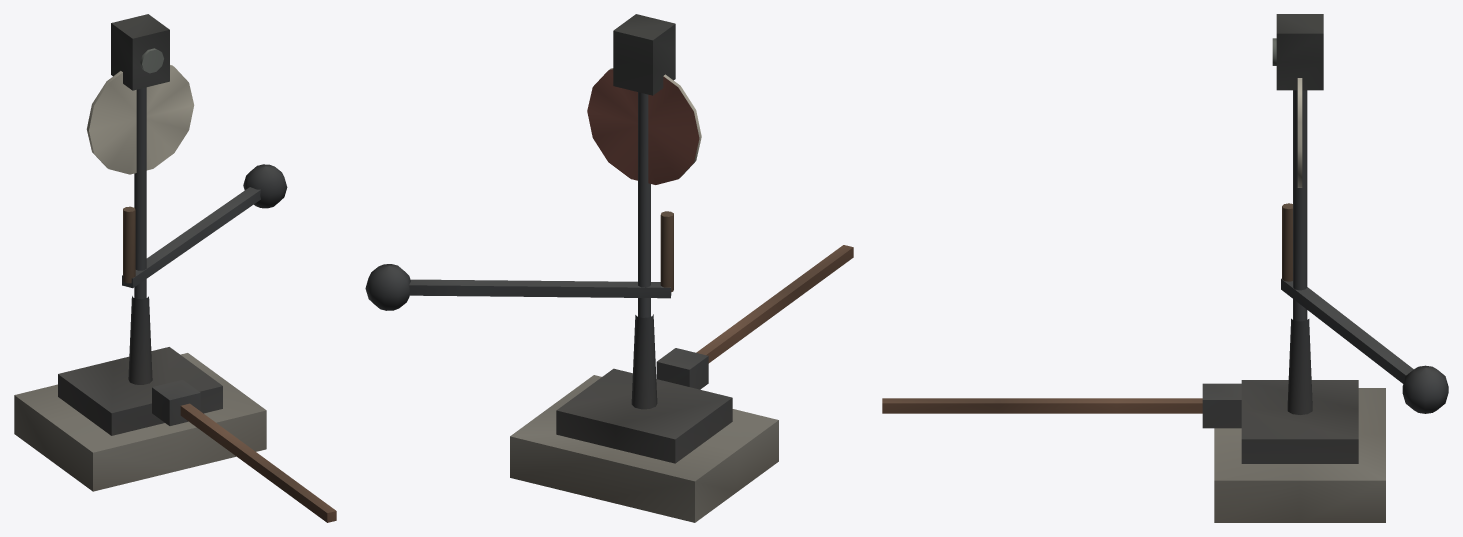
The model's file is m01_prop_point_lever_lod0.glb.
3 views of the same model, side by side, from view 1: azimuth 30°, elevation 25°; view 2: azimuth 150°, elevation 25°; view 3: azimuth 270°, elevation 25° (orthographic). The views are drawn at different scales.
Parts seen in each view (by area): view 1: point_lever; view 2: point_lever; view 3: point_lever.
Boxes of the visible parts, x1,y1,x2,y2 form: point_lever: (14,14,336,522); point_lever: (365,14,853,522); point_lever: (882,14,1448,522).
Size of the model in its own units: 0.93 by 1.28 by 1.45.
